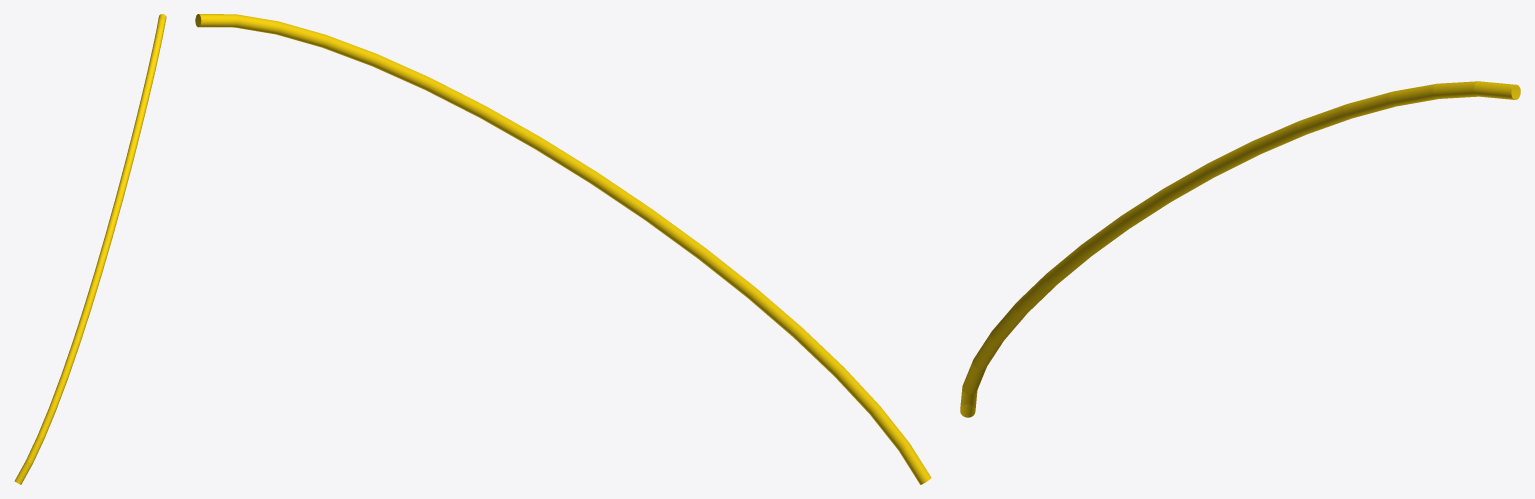
Rendered from Event_421364160_track_84.fbx.
The picture shows the model from 3 angles, left to right: view 1: azimuth 30°, elevation 25°; view 2: azimuth 150°, elevation 25°; view 3: azimuth 270°, elevation 25°; orthographic projection. The views are drawn at different scales.
Parts seen in each view (by area): view 1: Model; view 2: Model; view 3: Model.
Boxes of the visible parts, bbox=[...] form: Model: bbox=[14, 14, 166, 484]; Model: bbox=[195, 14, 931, 484]; Model: bbox=[960, 81, 1520, 417].
Bounding box in the file's own units: 1.72 × 1.73 × 1.46.
